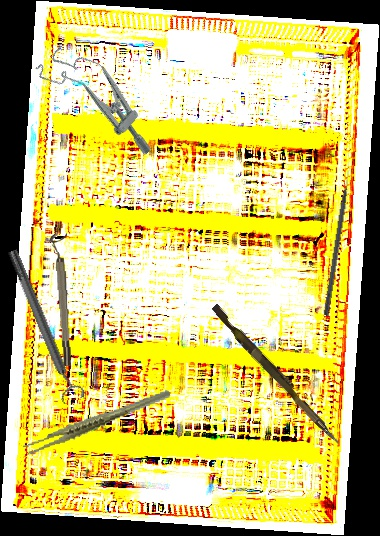Fixation Ring: (1, 245, 87, 406), (49, 232, 74, 367)
Hook Surgical: (322, 164, 354, 317)
Pusher: (207, 303, 346, 446)
Speculum: (33, 34, 171, 163)
Tissue Forceps: (17, 388, 177, 457)
